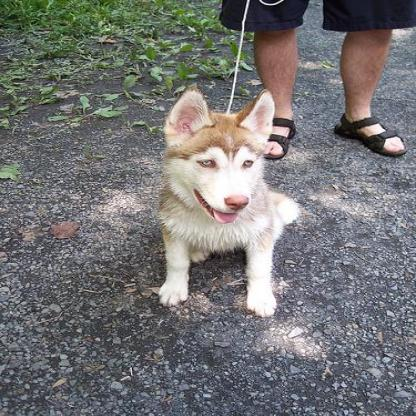Siberian_husky: (154, 84, 302, 317)
